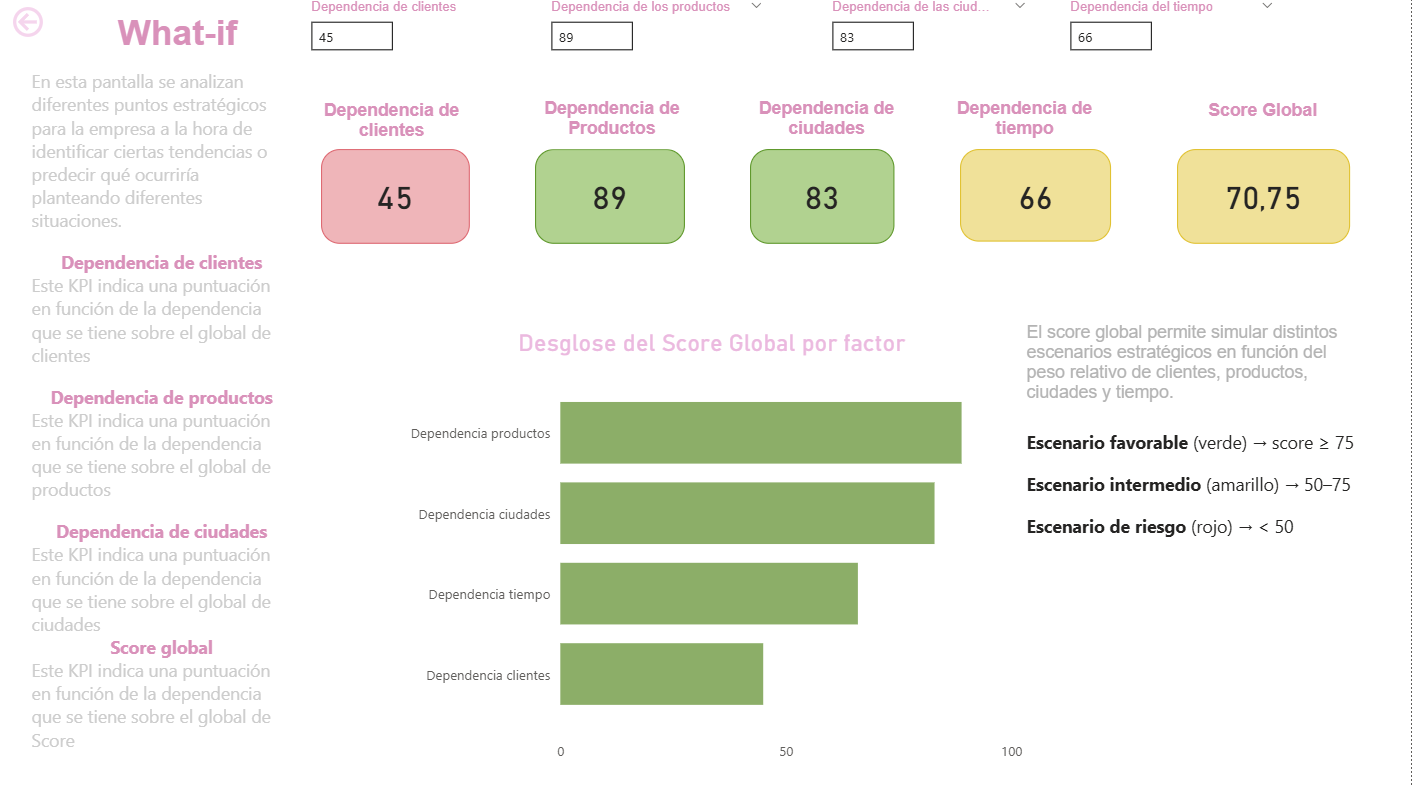

The dashboard page shown, as its layout file describes it:
{"tool":"powerbi","page":{"name":"What-if","canvas":[1280,720],"ordinal":3},"visuals":[{"type":"slicer","fields":{"Values":["Dep_clientes.Dep_clientes"]},"box":[270.4,0,224.7,88.5],"z":0},{"type":"slicer","fields":{"Values":["Dep_ciudades.Dep_ciudades"]},"box":[742.3,0,200.5,83.2],"z":1000},{"type":"slicer","fields":{"Values":["dep_productos.dep_productos"]},"box":[487.9,0,216.4,77],"z":2000},{"type":"slicer","fields":{"Values":["Dep_tiempo.Dep_tiempo"]},"box":[958.7,0,209.1,79.5],"z":3000},{"type":"card","fields":{"Values":["Whhat-if.score_cliente"]},"box":[292.1,141.4,134.5,85.6],"z":4000},{"type":"card","fields":{"Values":["Whhat-if.score_producto"]},"box":[486.1,141.4,135.7,85.6],"z":5000},{"type":"card","fields":{"Values":["Whhat-if.score_ciudad"]},"box":[681.3,141.4,130.8,85.6],"z":6000},{"type":"card","fields":{"Values":["Whhat-if.score_tiempo"]},"box":[871.6,141.4,137,84.4],"z":7000},{"type":"actionButton","box":[0,0,56.2,51.7],"z":8000},{"type":"card","fields":{"Values":["Whhat-if.score_global"]},"box":[1068,141,156.6,85.6],"z":9000},{"type":"textbox","box":[286,92.8,140.6,48.9],"z":10000},{"type":"textbox","box":[487.8,90.4,135.7,51.4],"z":11000},{"type":"textbox","box":[679.7,90.4,140.6,48.9],"z":12000},{"type":"textbox","box":[859.5,90.4,140.6,48.9],"z":13000},{"type":"textbox","box":[1077.7,92.4,137.1,28.2],"z":14000},{"type":"clusteredBarChart","title":"Desglose del Score Global por factor","fields":{"Category":["Factores_Score.Factor"],"Y":["Whhat-if.Valor Score Factor"]},"box":[360,304.3,572.9,401.4],"z":15000},{"type":"textbox","box":[926.8,391.7,330.1,156.9],"z":16000},{"type":"textbox","box":[71.6,13.6,180.5,61.7],"z":17000},{"type":"textbox","box":[24.3,64.3,245.7,655.7],"z":18000},{"type":"textbox","box":[926.8,293.8,317.4,97.9],"z":19000}]}

Visuals, with their boxes in screenshot pixels (x1, y1, x2, y2), scaled from the page's 1280x720 canvas onto the 1412x786 screenshot:
slicer - Dep_clientes.Dep_clientes: [298, 0, 546, 97]
slicer - Dep_ciudades.Dep_ciudades: [819, 0, 1040, 91]
slicer - dep_productos.dep_productos: [538, 0, 777, 84]
slicer - Dep_tiempo.Dep_tiempo: [1058, 0, 1288, 87]
card - Whhat-if.score_cliente: [322, 154, 471, 248]
card - Whhat-if.score_producto: [536, 154, 686, 248]
card - Whhat-if.score_ciudad: [752, 154, 896, 248]
card - Whhat-if.score_tiempo: [961, 154, 1113, 246]
actionButton: [0, 0, 62, 56]
card - Whhat-if.score_global: [1178, 154, 1351, 247]
textbox: [315, 101, 471, 155]
textbox: [538, 99, 688, 155]
textbox: [750, 99, 905, 152]
textbox: [948, 99, 1103, 152]
textbox: [1189, 101, 1340, 132]
"Desglose del Score Global por factor" clusteredBarChart: [397, 332, 1029, 770]
textbox: [1022, 428, 1387, 599]
textbox: [79, 15, 278, 82]
textbox: [27, 70, 298, 785]
textbox: [1022, 321, 1373, 428]
